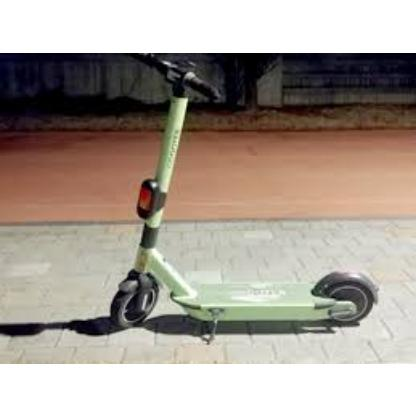bike: (108, 55, 383, 343)
